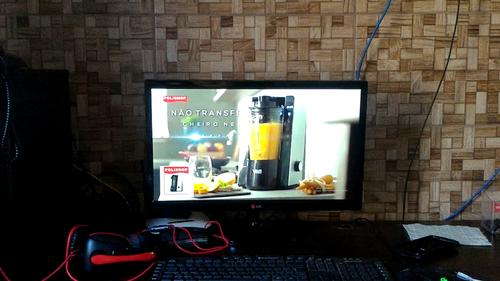Polishop #1: (159, 165, 193, 198)
